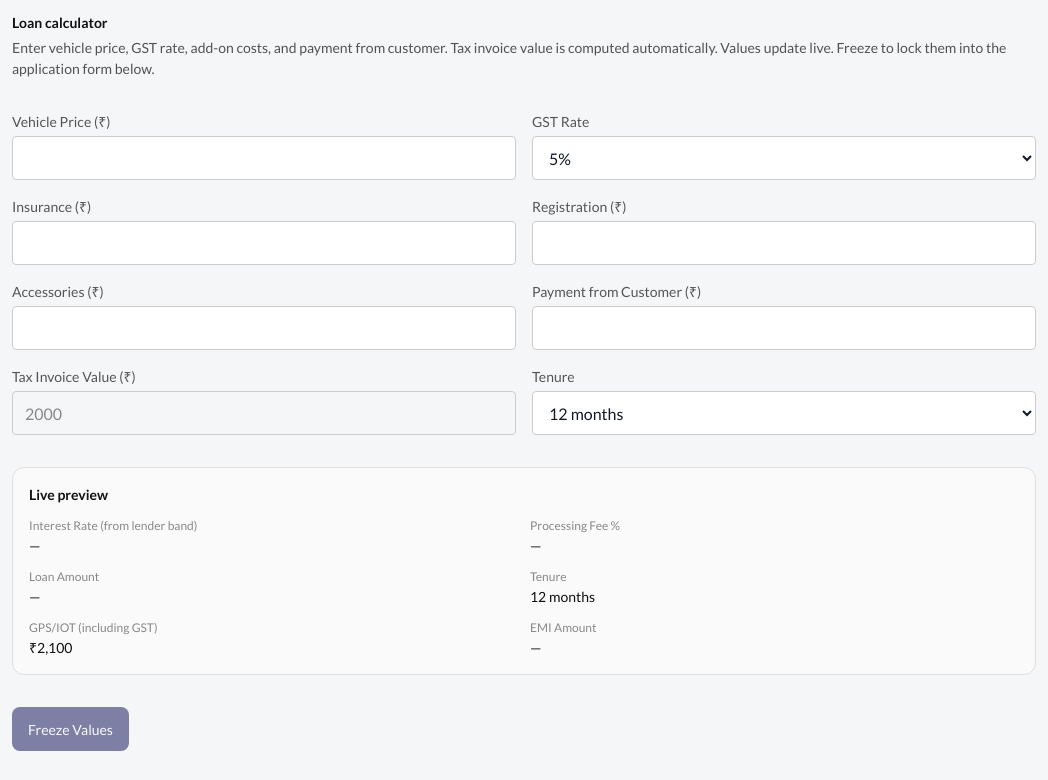
Test: LoanCalculator › lists tenure options from the lender tenure_months list
Select "24 months" in the dropdown with test id "loan-calc-tenure" at (784, 413), box [532,391,1036,435]
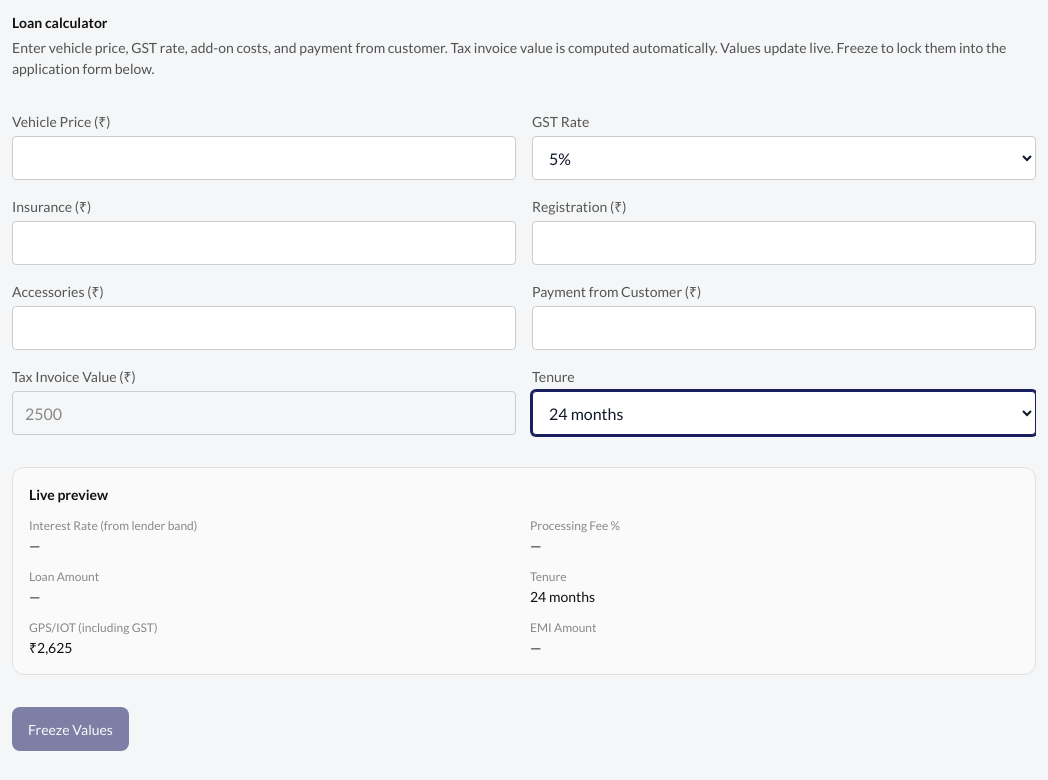
Result: the text with test id "loan-calc-preview-tenure" reads "24 months" at [530,588,595,605]
